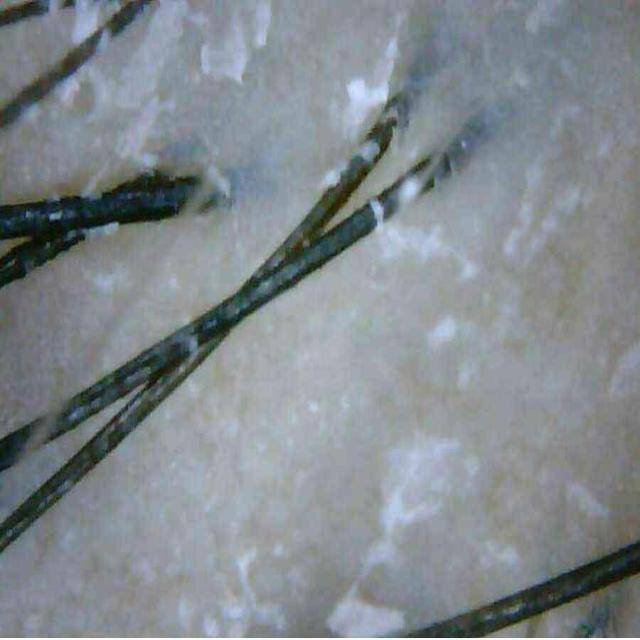d: (112, 0, 186, 160), (380, 433, 464, 548), (201, 0, 272, 82), (326, 585, 405, 638), (344, 78, 389, 136), (379, 220, 440, 260), (71, 0, 101, 45), (370, 197, 384, 228)
